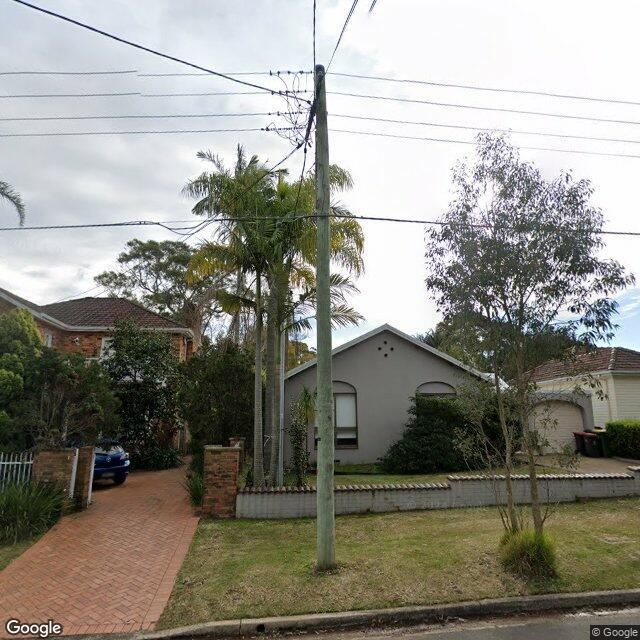crossarm: (303, 73, 324, 143)
steel-pole: (277, 322, 284, 487)
timber-pole: (313, 65, 337, 571)
